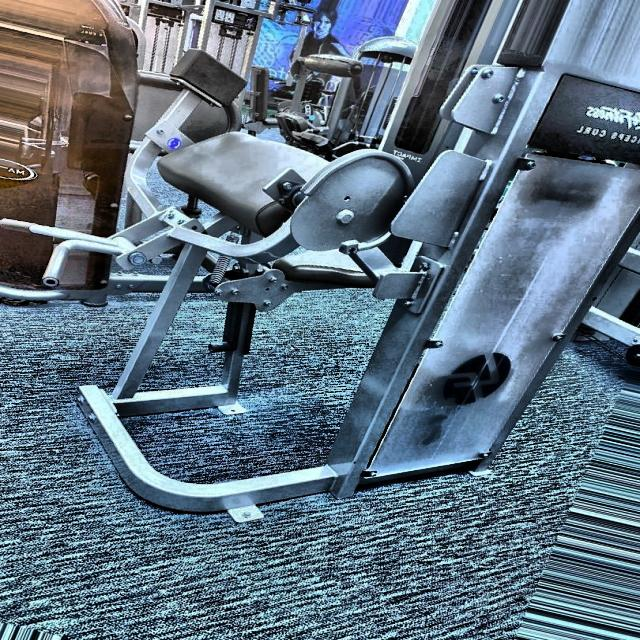bicep_curl_machine: (6, 12, 492, 560), (563, 120, 639, 148)
